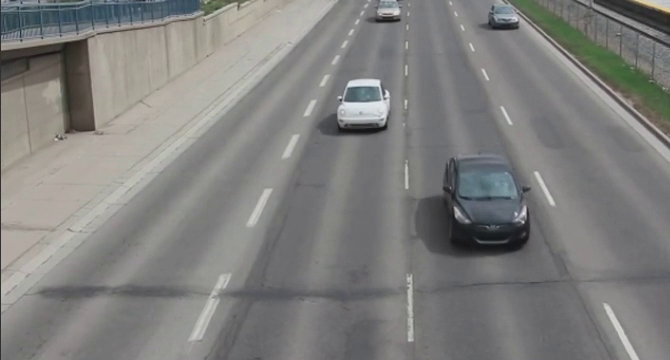car: (439, 155, 534, 252), (334, 71, 396, 137), (489, 5, 519, 31), (374, 1, 404, 26)
